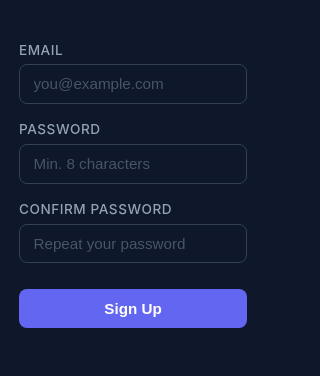
Test: SignupForm › shows an error when passwords do not match
This screenshot has width=320, height=376.
In the field labelled "Email": coordinates (133, 84) x1=19 y1=64 x2=247 y2=104, type "user@example.com"
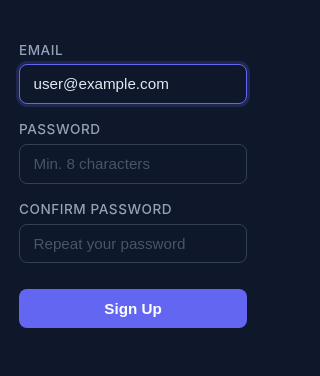
In the password field labelled "Password": coordinates (133, 164) x1=19 y1=144 x2=247 y2=184, type "password123"
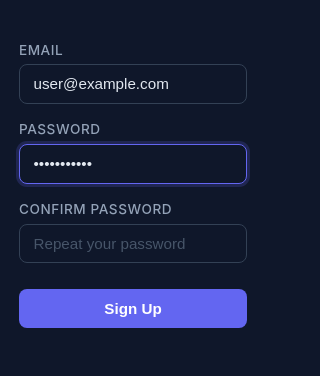
In the password field labelled "Confirm Password": coordinates (133, 244) x1=19 y1=224 x2=247 y2=263, type "different99"
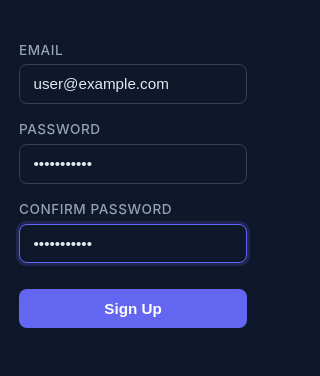
Click the button "Sign Up": coordinates (133, 309) x1=19 y1=289 x2=247 y2=328
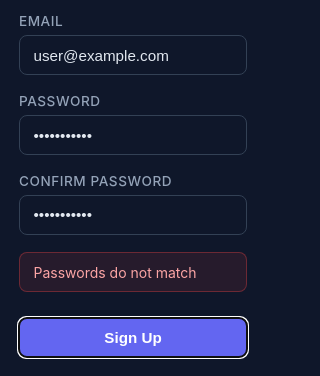
Expected: the text "Passwords do not match" is shown, x1=19 y1=252 x2=247 y2=292
